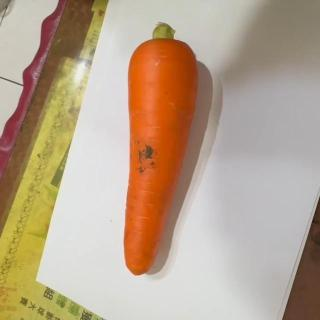carrot: (121, 22, 199, 274)
